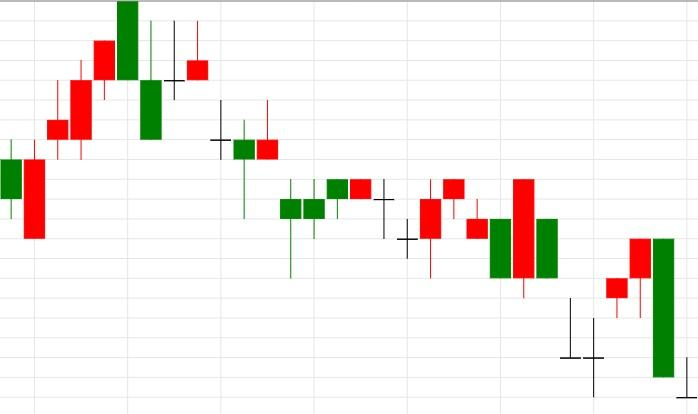bearish_engulfing_fall: (582, 238, 675, 397)
inverse_hammer_rise: (186, 21, 279, 220)
